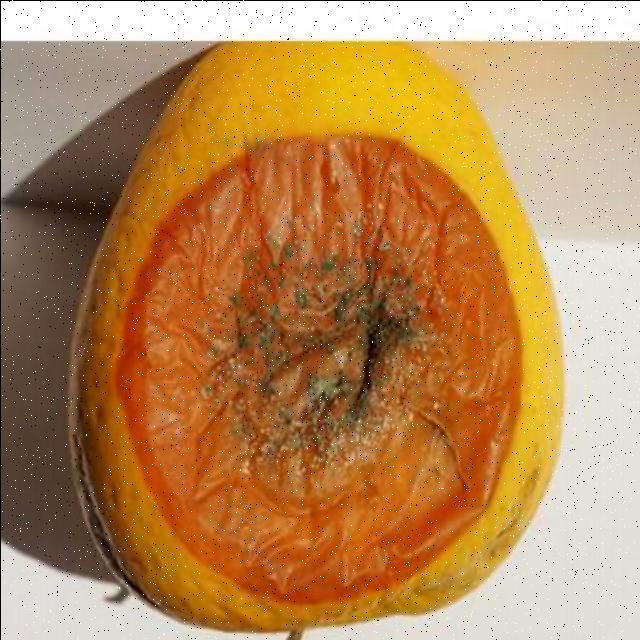ROT: (57, 62, 581, 628)
